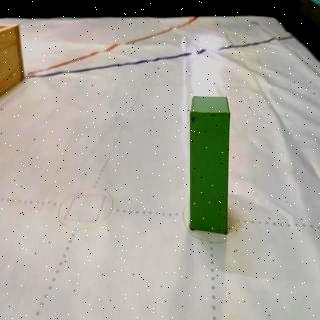greenbox: (190, 94, 230, 232)
